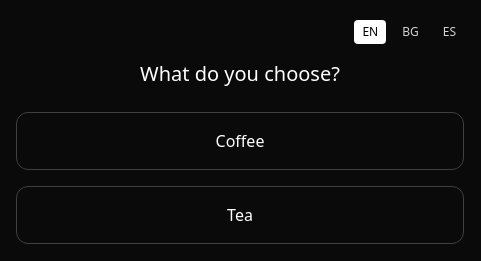
Test: App i18n › switches to Bulgarian when BG button is clicked
Expected: the heading "What do you choose?" is shown, [140,60,340,87]
Click the button "BG". click: (410, 32)
box: [394,20,427,44]
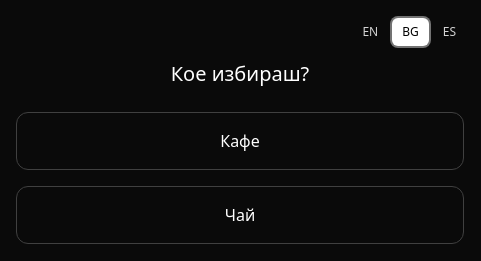
Result: the heading "Кое избираш?" is shown at [171,60,309,87]
Result: the button "Кафе" is shown at [16,112,464,170]
Result: the button "Чай" is shown at [16,186,464,244]
